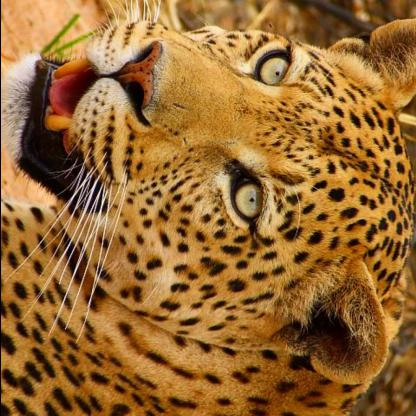leopard: (8, 17, 415, 378)
